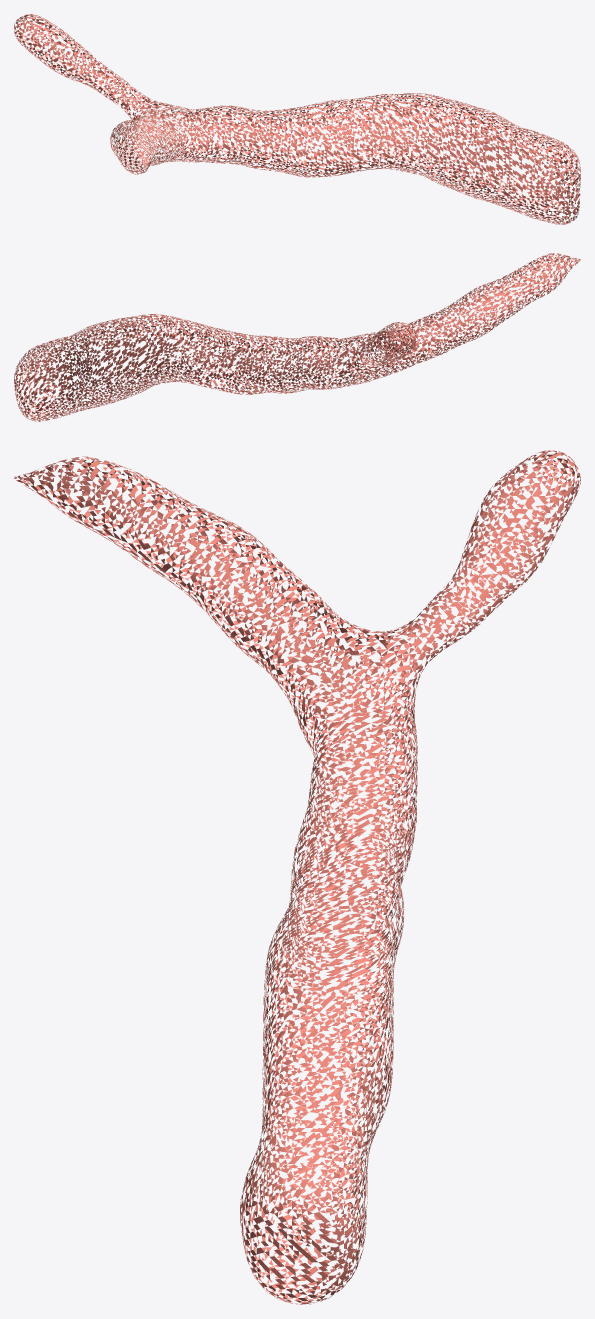
File: diseased.glb
3 views of the same model, one above another, from view 1: azimuth 30°, elevation 25°; view 2: azimuth 150°, elevation 25°; view 3: azimuth 270°, elevation 25° (orthographic). The views are drawn at different scales.
Size of the model in its own units: 118 by 57.73 by 64.37.
